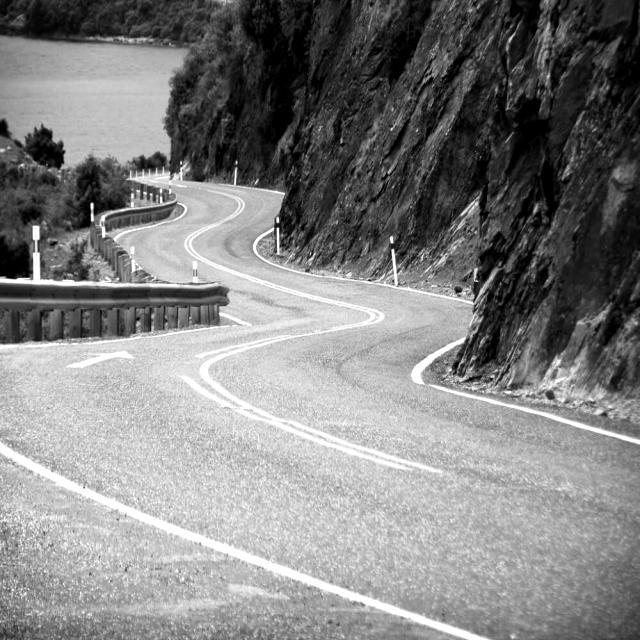cleat: (55, 125, 588, 640)
